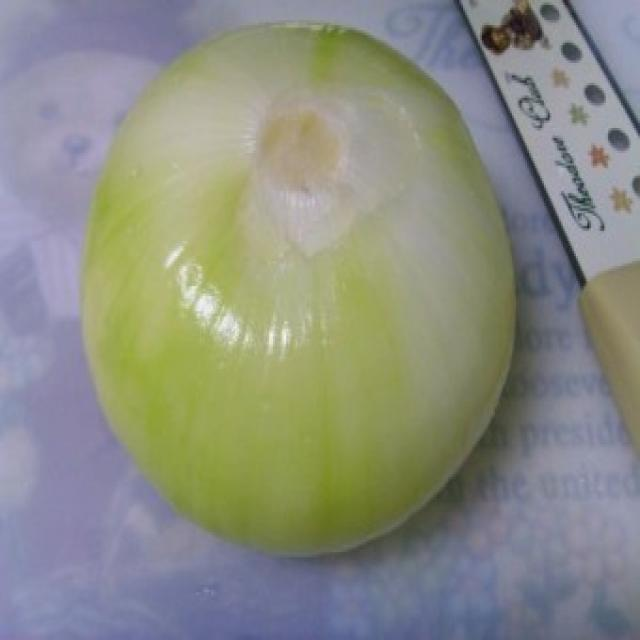Onion: (78, 17, 517, 555)
